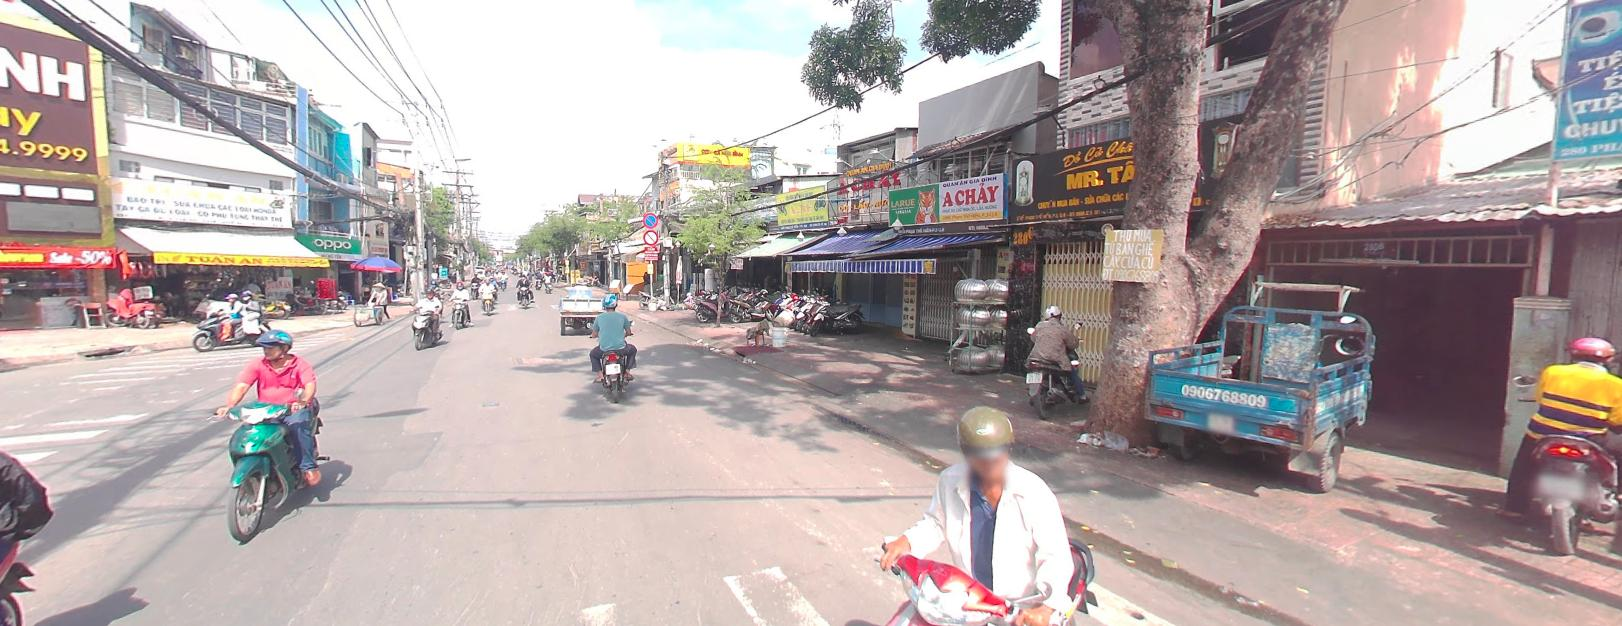Cam con lai: (643, 229, 657, 243)
Cam dung va do: (642, 211, 658, 228), (642, 228, 658, 243), (643, 212, 657, 226)
